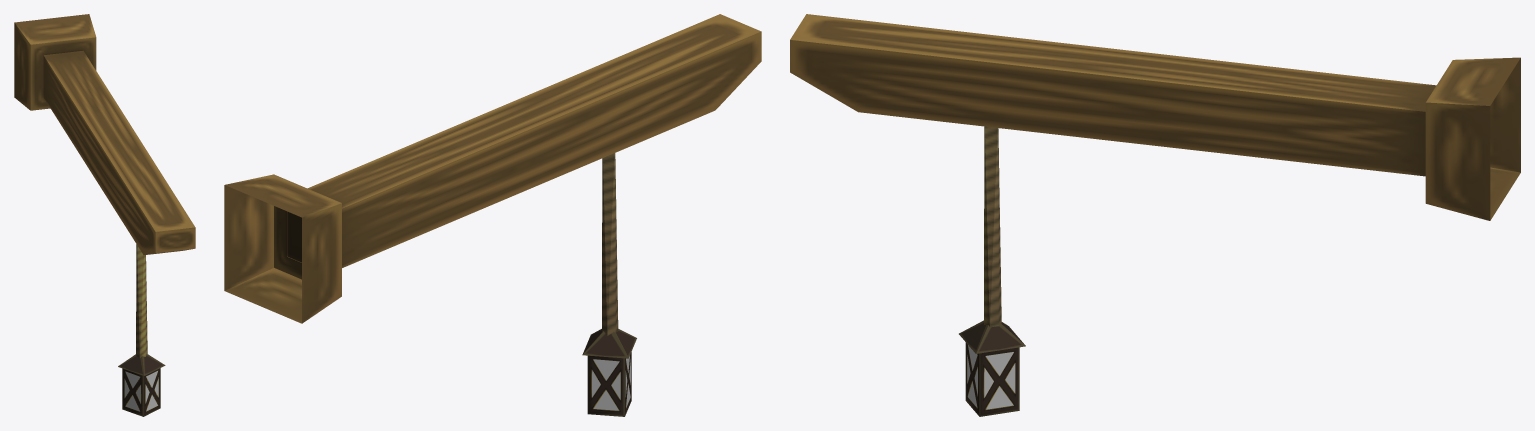
The model's file is torch.dae.
3 renders of one model, left to right at view 1: azimuth 30°, elevation 25°; view 2: azimuth 150°, elevation 25°; view 3: azimuth 270°, elevation 25°, orthographic. The views are drawn at different scales.
Visible parts, largest first — view 1: beam, torch; view 2: beam, torch; view 3: beam, torch.
Boxes of the visible parts, x1=… form: beam: x1=14, y1=14, x2=195, y2=255; torch: x1=118, y1=244, x2=165, y2=416; beam: x1=224, y1=14, x2=761, y2=323; torch: x1=582, y1=153, x2=636, y2=416; beam: x1=790, y1=14, x2=1520, y2=220; torch: x1=959, y1=126, x2=1025, y2=416.
Bounding box in the file's own units: 211 × 555 × 320.
2 materials, 1 textured.
